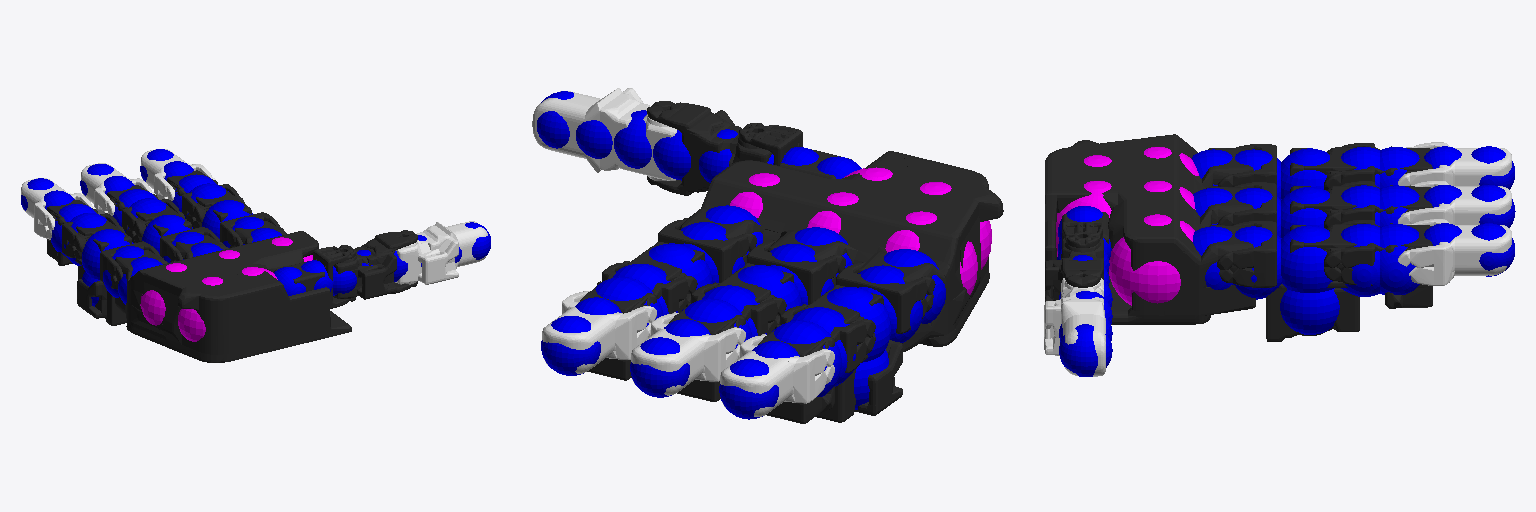
--- Facts derived from the render (not from the file) ---
Views: 3 orthographic renders of the robot side by side, from view 1: azimuth 30°, elevation 25°; view 2: azimuth 150°, elevation 25°; view 3: azimuth 270°, elevation 25°.
Robot: onshape — 56 links, 55 joints (16 revolute, 38 fixed, 1 floating); root link world; default pose: all joints at 0.
Visible links, largest first — view 1: palm_lower, thumb_fingertip, thumb_dip, mcp_joint_3, dip_3, fingertip_3, fingertip_2, fingertip, ring_ball4, thumb_pip, dip, dip_2 (+8 smaller); view 2: palm_lower, mcp_joint_3, thumb_fingertip, thumb_dip, fingertip_3, fingertip_2, fingertip, dip_3, dip, dip_2, mcp_joint, mcp_joint_2 (+28 smaller); view 3: palm_lower, mcp_joint, fingertip, thumb_fingertip, palm_ball1, dip, index_ball4, fingertip_2, fingertip_3, thumb_dip, index_ball5, index_ball2 (+28 smaller).
Link boxes in pixels (box(x1,y1,x2,y2)): palm_lower: box(115, 221, 351, 362); thumb_fingertip: box(395, 221, 487, 284); thumb_dip: box(333, 230, 417, 299); mcp_joint_3: box(77, 241, 163, 325); dip_3: box(47, 200, 124, 265); fingertip_3: box(21, 178, 95, 239); fingertip_2: box(81, 163, 155, 215); fingertip: box(141, 149, 215, 200); ring_ball4: box(82, 229, 133, 279); thumb_pip: box(313, 245, 355, 308); dip: box(167, 170, 244, 228); dip_2: box(107, 185, 184, 242); palm_lower: box(679, 151, 1003, 351); mcp_joint_3: box(816, 262, 935, 422); thumb_fingertip: box(532, 88, 676, 180); thumb_dip: box(647, 101, 771, 195); fingertip_3: box(720, 334, 834, 416); fingertip_2: box(631, 312, 745, 395); fingertip: box(542, 291, 656, 373); dip_3: box(758, 304, 875, 423); dip: box(580, 261, 697, 380); dip_2: box(669, 282, 786, 401); mcp_joint: box(658, 218, 756, 282); mcp_joint_2: box(747, 240, 845, 304); palm_lower: box(1045, 134, 1255, 324); mcp_joint: box(1217, 221, 1359, 341); fingertip: box(1398, 219, 1511, 285); thumb_fingertip: box(1044, 278, 1105, 376); palm_ball1: box(1109, 214, 1194, 305); dip: box(1324, 220, 1432, 308); index_ball4: box(1281, 225, 1333, 292); fingertip_2: box(1398, 181, 1511, 224); fingertip_3: box(1398, 142, 1511, 185); thumb_dip: box(1045, 238, 1103, 301); index_ball5: box(1280, 288, 1339, 334); index_ball2: box(1380, 224, 1419, 294).
Bounding box of the posed robot: 0.2425 × 0.2353 × 0.0642 m (x, y, z).
Meshes: 8 distinct files referenced, 17 mesh visuals loaded (8 OBJ).

The robot description file, URDF, robot "onshape":
<robot name="onshape">
<link name="world"/>
<link name="palm_link_floating"/>
<joint name="arm_to_world_floating" type="floating">
<parent link="world"/>
<child link="palm_link_floating"/>
<origin xyz="0 0 0" rpy="0 0 0" />
</joint>
<joint name="floating_to_palm" type="fixed">
<parent link="palm_link_floating"/>
<child link="palm_lower"/>
<origin xyz="0.037 0.05 -0.037" rpy="-3.141592653589793 0 1.5707963267948966" />
</joint>

<link name="palm_lower">
<visual>
<origin xyz="-0.020095249652862544332 0.025757756134899473244 -0.034722403578460216134" rpy="0 -0 0" />
<geometry>
<mesh filename="palm_lower.obj"/>
</geometry>
<material name="black">
<color rgba="0.2 0.2 0.2 1"/>
</material>
</visual>
<collision>
<origin xyz="-0.020095249652862544332 0.025757756134899473244 -0.034722403578460216134" rpy="0 -0 0" />
<geometry>
<mesh filename="palm_lower.obj"/>
</geometry>
</collision>
<inertial>
<origin xyz="0 0 0" rpy="0 0 0"/>
<mass value="0.237" />
<inertia ixx="0.000354094" ixy="-0.000001193"  ixz="-0.000002445" iyy="0.000260915" iyz="-0.000002905" izz="0.000529257" />
</inertial>
</link>

<link name="mcp_joint">
<visual>
<origin xyz="0.0084069022611744960438 0.0077662438597169954416 0.014657354985032912051" rpy="1.6375789613220999807e-15 -1.0210473302491019535e-30 1.7177968783327987474e-31" />
<geometry>
<mesh filename="mcp_joint.obj"/>
</geometry>
<material name="black">
<color rgba="0.2 0.2 0.2 1"/>
</material>
</visual>
<collision>
<origin xyz="0.0084069022611744960438 0.0077662438597169954416 0.014657354985032912051" rpy="1.6375789613220999807e-15 -1.0210473302491019535e-30 1.7177968783327987474e-31" />
<geometry>
<mesh filename="mcp_joint.obj"/>
</geometry>
</collision>
<inertial>
<origin xyz="0 0 0" rpy="0 0 0"/>
<mass value="0.044" />
<inertia ixx="0.000011499" ixy="0.000003049"  ixz="0.000000121" iyy="0.000007796" iyz="0.000000112" izz="0.000014759" />
</inertial>
</link>

<link name="pip">
<visual>
<origin xyz="0.0096433630922713280131 0.00029999999999998951117 0.00078403401041737645627" rpy="-1.570796326794896558 -1.570796326794896336 0" />
<geometry>
<mesh filename="pip.obj"/>
</geometry>
<material name="black">
<color rgba="0.2 0.2 0.2 1"/>
</material>
</visual>
<collision>
<origin xyz="0.0096433630922713280131 0.00029999999999998951117 0.00078403401041737645627" rpy="-1.570796326794896558 -1.570796326794896336 0" />
<geometry>
<mesh filename="pip.obj"/>
</geometry>
</collision>
<inertial>
<origin xyz="0 0 0" rpy="0 0 0"/>
<mass value="0.032" />
<inertia ixx="0.000004798" ixy="0.000000012"  ixz="0.000000004" iyy="0.000002862" iyz="0.000000011" izz="0.000004234" />
</inertial>
</link>

<link name="dip">
<visual>
<origin xyz="0.021133352895225002849 -0.0084321191467048792201 0.0097850881620952408213" rpy="-3.141592653589793116 4.5075111242164408299e-32 4.4395481053923607589e-32" />
<geometry>
<mesh filename="dip.obj"/>
</geometry>
<material name="black">
<color rgba="0.2 0.2 0.2 1"/>
</material>
</visual>
<collision>
<origin xyz="0.021133352895225002849 -0.0084321191467048792201 0.0097850881620952408213" rpy="-3.141592653589793116 4.5075111242164408299e-32 4.4395481053923607589e-32" />
<geometry>
<mesh filename="dip.obj"/>
</geometry>
</collision>
<inertial>
<origin xyz="0 0 0" rpy="0 0 0"/>
<mass value="0.037" />
<inertia ixx="0.000005542" ixy="-0.000000607"  ixz="-0.000000017" iyy="0.000005727" iyz="-0.000000023" izz="0.000006682" />
</inertial>
</link>

<link name="fingertip">
<visual>
<origin xyz="0.013286424108533503169 -0.0061142383865419869249 0.014499999999999497666" rpy="3.141592653589793116 1.1993117970061734707e-33 4.4395481053923607589e-32" />
<geometry>
<mesh filename="fingertip.obj"/>
</geometry>
<material name="white">
<color rgba=".9 .9 .9 1"/>
</material>
</visual>
<!-- <collision>
<origin xyz="0.013286424108533503169 -0.0061142383865419869249 0.014499999999999497666" rpy="3.141592653589793116 1.1993117970061734707e-33 4.4395481053923607589e-32" />
<geometry>
<mesh filename="fingertip.obj"/>
</geometry>
</collision> -->
<inertial>
<origin xyz="0 0 0" rpy="0 0 0"/>
<mass value="0.016" />
<inertia ixx="0.000003368" ixy="0.000000115"  ixz="0" iyy="0.000001556" iyz="0" izz="0.000002863" />
</inertial>
</link>

<joint name="0" type="revolute">
<origin xyz="-0.012200000000000007713 0.038099999999999994982 0.014500000000000000736" rpy="-1.570796326794896558 -1.0065212660796336576e-15 1.5707963267948943376" />
<parent link="mcp_joint" />
<child link="pip" />
<axis xyz="0 0 -1"/>
<limit effort="0.95" velocity="8.48" lower = "-1.047" upper = "1.047"/>
<joint_properties friction="0.0"/>
</joint>

<joint name="1" type="revolute">
<origin xyz="-0.0070952496528625457958 0.023057756134899472233 -0.01872240357846021927" rpy="1.5707963267948950037 1.5707963267948945596 0" />
<parent link="palm_lower" />
<child link="mcp_joint" />
<axis xyz="0 0 -1"/>
<limit effort="0.95" velocity="8.48" lower = "-0.314" upper = "2.23"/>
<joint_properties friction="0.0"/>
</joint>

<joint name="2" type="revolute">
<origin xyz="0.01499999999999996822 0.014299999999999904801 -0.012999999999999824196" rpy="1.5707963267948958919 -1.570796326794896336 0" />
<parent link="pip" />
<child link="dip" />
<axis xyz="0 0 -1"/>
<limit effort="0.95" velocity="8.48" lower = "-0.506" upper = "1.885"/>  
<joint_properties friction="0.0"/>
</joint>

<joint name="3" type="revolute">
<origin xyz="-4.0880582495572692636e-09 -0.036100004210367367397 0.00020000000000007858714" rpy="4.5935029425113685044e-17 -2.8730071914463794583e-16 4.4395481053923607589e-32" />
<parent link="dip" />
<child link="fingertip" />
<axis xyz="0 0 -1"/>
<limit effort="0.95" velocity="8.48" lower = "-0.366" upper = "2.042"/>   
<joint_properties friction="0.0"/>
</joint>


<link name="index_ball0">
<visual>
<geometry>
<sphere radius="0.0134"/>
</geometry>
<material name="blue">
<color rgba="0.0 0.0 1.0 1.0"/>
</material>
</visual>
<collision>
<geometry>
<sphere radius="0.0134"/>
</geometry>
</collision>
<inertial>
<origin xyz="0 0 0" rpy="0 0 0"/>
<mass value="0.016" />
<inertia ixx="0.0" ixy="0.0"  ixz="0" iyy="0.0" iyz="0.0" izz="0.0" />
</inertial>
</link>

<joint name="index_ball0_joint" type="fixed">
<parent link="fingertip"/>
<child link="index_ball0"/>
<origin rpy="0 0 0" xyz="-0.0015 -0.0382 0.0145"/>
</joint>

<!-- index ball1 -->
<link name="index_ball1">
<visual>
<geometry>
<sphere radius="0.0134"/>
</geometry>
<material name="blue">
<color rgba="0.0 0.0 1.0 1.0"/>
</material>
</visual>
<collision>
<geometry>
<sphere radius="0.0134"/>
</geometry>
</collision>
<inertial>
<origin xyz="0 0 0" rpy="0 0 0"/>
<mass value="0.016" />
<inertia ixx="0.0" ixy="0.0"  ixz="0" iyy="0.0" iyz="0.0" izz="0.0" />
</inertial>
</link>
<joint name="index_ball1_joint" type="fixed">
<parent link="fingertip"/>
<child link="index_ball1"/>
<origin rpy="0 0 0" xyz="-0.0015 -0.0162 0.0145"/>
</joint>

<!-- index ball2 -->
<link name="index_ball2">
<visual>
<geometry>
<sphere radius="0.0184"/>
</geometry>
<material name="blue">
<color rgba="0.0 0.0 1.0 1.0"/>
</material>
</visual>
<collision>
<geometry>
<sphere radius="0.0184"/>
</geometry>
</collision>
<inertial>
<origin xyz="0 0 0" rpy="0 0 0"/>
<mass value="0.016" />
<inertia ixx="0.0" ixy="0.0"  ixz="0" iyy="0.0" iyz="0.0" izz="0.0" />
</inertial>
</link>
<joint name="index_ball2_joint" type="fixed">
<parent link="dip"/>
<child link="index_ball2"/>
<origin rpy="0 0 0" xyz="0.004 -0.028  0.014"/>
</joint>

<!-- index ball3 -->
<link name="index_ball3">
<visual>
<geometry>
<sphere radius="0.0184"/>
</geometry>
<material name="blue">
<color rgba="0.0 0.0 1.0 1.0"/>
</material>
</visual>
<collision>
<geometry>
<sphere radius="0.0184"/>
</geometry>
</collision>
<inertial>
<origin xyz="0 0 0" rpy="0 0 0"/>
<mass value="0.016" />
<inertia ixx="0.0" ixy="0.0"  ixz="0" iyy="0.0" iyz="0.0" izz="0.0" />
</inertial>
</link>
<joint name="index_ball3_joint" type="fixed">
<parent link="dip"/>
<child link="index_ball3"/>
<origin rpy="0 0 0" xyz="0.004 -0.012  0.014"/>
</joint>

<!-- index ball4 -->
<link name="index_ball4">
<visual>
<geometry>
<sphere radius="0.0184"/>
</geometry>
<material name="blue">
<color rgba="0.0 0.0 1.0 1.0"/>
</material>
</visual>
<collision>
<geometry>
<sphere radius="0.0184"/>
</geometry>
</collision>
<inertial>
<origin xyz="0 0 0" rpy="0 0 0"/>
<mass value="0.016" />
<inertia ixx="0.0" ixy="0.0"  ixz="0" iyy="0.0" iyz="0.0" izz="0.0" />
</inertial>
</link>
<joint name="index_ball4_joint" type="fixed">
<parent link="pip"/>
<child link="index_ball4"/>
<origin rpy="0 0 0" xyz="0.00 0.0 -0.008"/>  
</joint>

<!-- index ball5 (pure collision)-->
<link name="index_ball5">
<visual>
<geometry>
<sphere radius="0.0184"/>
</geometry>
<material name="blue">
<color rgba="0.0 0.0 1.0 1.0"/>
</material>
</visual>
<collision>
<geometry>
<sphere radius="0.0184"/>
</geometry>
</collision>
<inertial>
<origin xyz="0 0 0" rpy="0 0 0"/>
<mass value="0.016" />
<inertia ixx="0.0" ixy="0.0"  ixz="0" iyy="0.0" iyz="0.0" izz="0.0" />
</inertial>
</link>
<joint name="index_ball5_joint" type="fixed">
<parent link="pip"/>
<child link="index_ball5"/>
<origin rpy="0 0 0" xyz="0.00 0.0 0.012"/>  
</joint>

<!-- index ball6 -->
<link name="index_ball6">
<visual>
<geometry>
<sphere radius="0.0184"/>
</geometry>
<material name="blue">
<color rgba="0.0 0.0 1.0 1.0"/>
</material>
</visual>
<collision>
<geometry>
<sphere radius="0.0184"/>
</geometry>
</collision>
<inertial>
<origin xyz="0 0 0" rpy="0 0 0"/>
<mass value="0.016" />
<inertia ixx="0.0" ixy="0.0"  ixz="0" iyy="0.0" iyz="0.0" izz="0.0" />
</inertial>
</link>
<joint name="index_ball6_joint" type="fixed">
<parent link="mcp_joint"/>
<child link="index_ball6"/>
<origin rpy="0 0 0" xyz="-0.005 0.01 0.015"/>
</joint>

<!-- index ball7 -->
<link name="index_ball7">
<visual>
<geometry>
<sphere radius="0.0184"/>
</geometry>
<material name="blue">
<color rgba="0.0 0.0 1.0 1.0"/>
</material>
</visual>
<collision>
<geometry>
<sphere radius="0.0184"/>
</geometry>
</collision>
<inertial>
<origin xyz="0 0 0" rpy="0 0 0"/>
<mass value="0.016" />
<inertia ixx="0.0" ixy="0.0"  ixz="0" iyy="0.0" iyz="0.0" izz="0.0" />
</inertial>
</link>
<joint name="index_ball7_joint" type="fixed">
<parent link="mcp_joint"/>
<child link="index_ball7"/>
<origin rpy="0 0 0" xyz="-0.005 -0.01 0.015"/>
</joint>


<link name="mcp_joint_2">
<visual>
<origin xyz="0.0084069022611744960438 0.0077662438597169954416 0.014657354985032913786" rpy="1.6375789613220999807e-15 -1.0076465469034000467e-30 2.1209300131419907151e-61" />
<geometry>
<mesh filename="mcp_joint.obj"/>
</geometry>
<material name="black">
<color rgba=".2 .2 .2 1"/>
</material>
</visual>
<collision>
<origin xyz="0.0084069022611744960438 0.0077662438597169954416 0.014657354985032913786" rpy="1.6375789613220999807e-15 -1.0076465469034000467e-30 2.1209300131419907151e-61" />
<geometry>
<mesh filename="mcp_joint.obj"/>
</geometry>
</collision>
<inertial>
<origin xyz="0 0 0" rpy="0 0 0"/>
<mass value="0.044" />
<inertia ixx="0.000011499" ixy="0.000003049"  ixz="0.000000121" iyy="0.000007796" iyz="0.000000112" izz="0.000014759" />
</inertial>
</link>

<link name="pip_2">
<visual>
<origin xyz="0.0096433630922713280131 0.00029999999999999471534 0.00078403401041737645627" rpy="-1.570796326794896558 -1.570796326794896336 0" />
<geometry>
<mesh filename="pip.obj"/>
</geometry>
<material name="black">
<color rgba=".2 .2 .2 1"/>
</material>
</visual>
<collision>
<origin xyz="0.0096433630922713280131 0.00029999999999999471534 0.00078403401041737645627" rpy="-1.570796326794896558 -1.570796326794896336 0" />
<geometry>
<mesh filename="pip.obj"/>
</geometry>
</collision>
<inertial>
<origin xyz="0 0 0" rpy="0 0 0"/>
<mass value="0.032" />
<inertia ixx="0.000004798" ixy="0.000000012"  ixz="0.000000004" iyy="0.000002862" iyz="0.000000011" izz="0.000004234" />
</inertial>
</link>

<link name="dip_2">
<visual>
<origin xyz="0.021133352895225002849 -0.0084321191467048653423 0.0097850881620952373519" rpy="-3.141592653589793116 2.1146933785271955805e-32 1.4408183216511868558e-31" />
<geometry>
<mesh filename="dip.obj"/>
</geometry>
<material name="black">
<color rgba=".2 .2 .2 1"/>
</material>
</visual>
<collision>
<origin xyz="0.021133352895225002849 -0.0084321191467048653423 0.0097850881620952373519" rpy="-3.141592653589793116 2.1146933785271955805e-32 1.4408183216511868558e-31" />
<geometry>
<mesh filename="dip.obj"/>
</geometry>
</collision>
<inertial>
<origin xyz="0 0 0" rpy="0 0 0"/>
<mass value="0.037" />
<inertia ixx="0.000005542" ixy="-0.000000607"  ixz="-0.000000017" iyy="0.000005727" iyz="-0.000000023" izz="0.000006682" />
</inertial>
</link>

<link name="fingertip_2">
<visual>
<origin xyz="0.01328642410853349623 -0.0061142383865420008027 0.014499999999999495931" rpy="3.141592653589793116 -4.3179597882835943107e-33 1.4408183216511868558e-31" />
<geometry>
<mesh filename="fingertip.obj"/>
</geometry>
<material name="white">
<color rgba=".9 .9 .9 1"/>
</material>
</visual>
<!-- <collision>
<origin xyz="0.01328642410853349623 -0.0061142383865420008027 0.014499999999999495931" rpy="3.141592653589793116 -4.3179597882835943107e-33 1.4408183216511868558e-31" />
<geometry>
<mesh filename="fingertip.obj"/>
</geometry>
</collision> -->
<inertial>
<origin xyz="0 0 0" rpy="0 0 0"/>
<mass value="0.016" />
<inertia ixx="0.000003368" ixy="0.000000115"  ixz="0" iyy="0.000001556" iyz="0" izz="0.000002863" />
</inertial>
</link>

<joint name="4" type="revolute">
<origin xyz="-0.012200000000000019856 0.038099999999999981104 0.01450000000000000594" rpy="-1.570796326794896558 -1.0065212760057939085e-15 1.5707963267948943376" />
<parent link="mcp_joint_2" />
<child link="pip_2" />
<axis xyz="0 0 -1"/>
<limit effort="0.95" velocity="8.48" lower = "-1.047" upper = "1.047"/>
<joint_properties friction="0.0"/>
</joint>

<joint name="5" type="revolute">
<origin xyz="-0.0070952496528625388569 -0.022392243865100525113 -0.018722403578460229678" rpy="1.570796326794896558 1.570796326794896558 0" />
<parent link="palm_lower" />
<child link="mcp_joint_2" />
<axis xyz="0 0 -1"/>
<limit effort="0.95" velocity="8.48" lower = "-0.314" upper = "2.23"/>
<joint_properties friction="0.0"/>
</joint>

<joint name="6" type="revolute">
<origin xyz="0.014999999999999975159 0.014300000000000000211 -0.013000000000000018485" rpy="1.5707963267948958919 -1.570796326794896336 0" />
<parent link="pip_2" />
<child link="dip_2" />
<axis xyz="0 0 -1"/>
<limit effort="0.95" velocity="8.48" lower = "-0.506" upper = "1.885"/>  
<joint_properties friction="0.0"/>
</joint>

<joint name="7" type="revolute">
<origin xyz="1.0061396160665481148e-16 -0.036099999999999854428 0.00020000000000007858714" rpy="4.5935029425113654229e-17 -2.8730071914463794583e-16 1.4408183216511868558e-31" />
<parent link="dip_2" />
<child link="fingertip_2" />
<axis xyz="0 0 -1"/>
<limit effort="0.95" velocity="8.48" lower = "-0.366" upper = "2.042"/>   
<joint_properties friction="0.0"/>
</joint>


<link name="middle_ball0">
<visual>
<geometry>
<sphere radius="0.0134"/>
</geometry>
<material name="blue">
<color rgba="0.0 0.0 1.0 1.0"/>
</material>
</visual>
<collision>
<geometry>
<sphere radius="0.0134"/>
</geometry>
</collision>
<inertial>
<origin xyz="0 0 0" rpy="0 0 0"/>
<mass value="0.016" />
<inertia ixx="0.0" ixy="0.0"  ixz="0" iyy="0.0" iyz="0.0" izz="0.0" />
</inertial>
</link>

<joint name="middle_ball0_joint" type="fixed">
<parent link="fingertip_2"/>
<child link="middle_ball0"/>
<origin rpy="0 0 0" xyz="-0.0015 -0.0382 0.0145"/>
</joint>

<!-- middle ball1 -->
<link name="middle_ball1">
<visual>
<geometry>
<sphere radius="0.0134"/>
</geometry>
<material name="blue">
<color rgba="0.0 0.0 1.0 1.0"/>
</material>
</visual>
<collision>
<geometry>
<sphere radius="0.0134"/>
</geometry>
</collision>
<inertial>
<origin xyz="0 0 0" rpy="0 0 0"/>
<mass value="0.016" />
<inertia ixx="0.0" ixy="0.0"  ixz="0" iyy="0.0" iyz="0.0" izz="0.0" />
</inertial>
</link>
<joint name="middle_ball1_joint" type="fixed">
<parent link="fingertip_2"/>
<child link="middle_ball1"/>
<origin rpy="0 0 0" xyz="-0.0015 -0.0162 0.0145"/>
</joint>

<!-- middle ball2 -->
<link name="middle_ball2">
<visual>
<geometry>
<sphere radius="0.0184"/>
</geometry>
<material name="blue">
<color rgba="0.0 0.0 1.0 1.0"/>
</material>
</visual>
<collision>
<geometry>
<sphere radius="0.0184"/>
</geometry>
</collision>
<inertial>
<origin xyz="0 0 0" rpy="0 0 0"/>
<mass value="0.016" />
<inertia ixx="0.0" ixy="0.0"  ixz="0" iyy="0.0" iyz="0.0" izz="0.0" />
</inertial>
</link>
<joint name="middle_ball2_joint" type="fixed">
<parent link="dip_2"/>
<child link="middle_ball2"/>
<origin rpy="0 0 0" xyz="0.004 -0.028  0.014"/>
</joint>

<!-- middle ball3 -->
<link name="middle_ball3">
<visual>
<geometry>
<sphere radius="0.0184"/>
</geometry>
<material name="blue">
<color rgba="0.0 0.0 1.0 1.0"/>
</material>
</visual>
<collision>
<geometry>
<sphere radius="0.0184"/>
</geometry>
</collision>
<inertial>
<origin xyz="0 0 0" rpy="0 0 0"/>
<mass value="0.016" />
<inertia ixx="0.0" ixy="0.0"  ixz="0" iyy="0.0" iyz="0.0" izz="0.0" />
</inertial>
</link>
<joint name="middle_ball3_joint" type="fixed">
<parent link="dip_2"/>
<child link="middle_ball3"/>
<origin rpy="0 0 0" xyz="0.004 -0.012  0.014"/>
</joint>

<!-- middle ball4 -->
<link name="middle_ball4">
<visual>
<geometry>
<sphere radius="0.0184"/>
</geometry>
<material name="blue">
<color rgba="0.0 0.0 1.0 1.0"/>
</material>
</visual>
<collision>
<geometry>
<sphere radius="0.0184"/>
</geometry>
</collision>
<inertial>
<origin xyz="0 0 0" rpy="0 0 0"/>
<mass value="0.016" />
<inertia ixx="0.0" ixy="0.0"  ixz="0" iyy="0.0" iyz="0.0" izz="0.0" />
</inertial>
</link>
<joint name="middle_ball4_joint" type="fixed">
<parent link="pip_2"/>
<child link="middle_ball4"/>
<origin rpy="0 0 0" xyz="0.00 0.0 -0.008"/>  
</joint>

<!-- middle ball5 (pure collision)-->
<link name="middle_ball5">
<visual>
<geometry>
<sphere radius="0.0184"/>
</geometry>
<material name="blue">
<color rgba="0.0 0.0 1.0 1.0"/>
</material>
</visual>
<collision>
<geometry>
<sphere radius="0.0184"/>
</geometry>
</collision>
<inertial>
<origin xyz="0 0 0" rpy="0 0 0"/>
<mass value="0.016" />
<inertia ixx="0.0" ixy="0.0"  ixz="0" iyy="0.0" iyz="0.0" izz="0.0" />
</inertial>
</link>
<joint name="middle_ball5_joint" type="fixed">
<parent link="pip_2"/>
<child link="middle_ball5"/>
<origin rpy="0 0 0" xyz="0.00 0.0 0.012"/>  
</joint>

<!-- middle ball6 -->
<link name="middle_ball6">
<visual>
<geometry>
<sphere radius="0.0184"/>
</geometry>
<material name="blue">
<color rgba="0.0 0.0 1.0 1.0"/>
</material>
</visual>
<collision>
<geometry>
<sphere radius="0.0184"/>
</geometry>
</collision>
<inertial>
<origin xyz="0 0 0" rpy="0 0 0"/>
<mass value="0.016" />
<inertia ixx="0.0" ixy="0.0"  ixz="0" iyy="0.0" iyz="0.0" izz="0.0" />
</inertial>
</link>
<joint name="middle_ball6_joint" type="fixed">
<parent link="mcp_joint_2"/>
<child link="middle_ball6"/>
<origin rpy="0 0 0" xyz="-0.005 0.01 0.015"/>
</joint>

<!-- middle ball7 -->
<link name="middle_ball7">
<visual>
<geometry>
<sphere radius="0.0184"/>
</geometry>
<material name="blue">
<color rgba="0.0 0.0 1.0 1.0"/>
</material>
</visual>
<collision>
<geometry>
<sphere radius="0.0184"/>
</geometry>
</collision>
<inertial>
<origin xyz="0 0 0" rpy="0 0 0"/>
<mass value="0.016" />
<inertia ixx="0.0" ixy="0.0"  ixz="0" iyy="0.0" iyz="0.0" izz="0.0" />
</inertial>
</link>
<joint name="middle_ball7_joint" type="fixed">
<parent link="mcp_joint_2"/>
<child link="middle_ball7"/>
<origin rpy="0 0 0" xyz="-0.005 -0.01 0.015"/>
</joint>


<link name="mcp_joint_3">
<visual>
<origin xyz="0.0084069022611744995133 0.0077662438597169963089 0.014657354985032913786" rpy="1.6375789613220999807e-15 -1.0059504988632626953e-30 5.729641584552035421e-32" />
<geometry>
<mesh filename="mcp_joint.obj"/>
</geometry>
<material name="black">
<color rgba=".2 .2 .2 1"/>
</material>
</visual>
<collision>
<origin xyz="0.0084069022611744995133 0.0077662438597169963089 0.014657354985032913786" rpy="1.6375789613220999807e-15 -1.0059504988632626953e-30 5.729641584552035421e-32" />
<geometry>
<mesh filename="mcp_joint.obj"/>
</geometry>
</collision>
<inertial>
<origin xyz="0 0 0" rpy="0 0 0"/>
<mass value="0.044" />
<inertia ixx="0.000011499" ixy="0.000003049"  ixz="0.000000121" iyy="0.000007796" iyz="0.000000112" izz="0.000014759" />
</inertial>
</link>

<link name="pip_3">
<visual>
<origin xyz="0.0096433630922713314826 0.00029999999999998083755 0.00078403401041737645627" rpy="-1.570796326794896558 -1.570796326794896336 0" />
<geometry>
<mesh filename="pip.obj"/>
</geometry>
<material name="black">
<color rgba=".2 .2 .2 1"/>
</material>
</visual>
<collision>
<origin xyz="0.0096433630922713314826 0.00029999999999998083755 0.00078403401041737645627" rpy="-1.570796326794896558 -1.570796326794896336 0" />
<geometry>
<mesh filename="pip.obj"/>
</geometry>
</collision>
<inertial>
<origin xyz="0 0 0" rpy="0 0 0"/>
<mass value="0.032" />
<inertia ixx="0.000004798" ixy="0.000000012"  ixz="0.000000004" iyy="0.000002862" iyz="0.000000011" izz="0.000004234" />
</inertial>
</link>

<link name="dip_3">
<visual>
<origin xyz="0.021133352895225006318 -0.0084321191467048653423 0.0097850881620952373519" rpy="-3.141592653589793116 -1.4095651113919093005e-33 1.5565411607615035382e-32" />
<geometry>
<mesh filename="dip.obj"/>
</geometry>
<material name="black">
<color rgba=".2 .2 .2 1"/>
</material>
</visual>
<collision>
<origin xyz="0.021133352895225006318 -0.0084321191467048653423 0.0097850881620952373519" rpy="-3.141592653589793116 -1.4095651113919093005e-33 1.5565411607615035382e-32" />
<geometry>
<mesh filename="dip.obj"/>
</geometry>
</collision>
<inertial>
<origin xyz="0 0 0" rpy="0 0 0"/>
<mass value="0.037" />
<inertia ixx="0.000005542" ixy="-0.000000607"  ixz="-0.000000017" iyy="0.000005727" iyz="-0.000000023" izz="0.000006682" />
</inertial>
</link>

<link name="fingertip_3">
<visual>
<origin xyz="0.013286424108533501434 -0.0061142383865419869249 0.0144999999999994994" rpy="3.141592653589793116 8.6170716950575402125e-33 1.5565411607615035382e-32" />
<geometry>
<mesh filename="fingertip.obj"/>
</geometry>
<material name="white">
<color rgba=".9 .9 .9 1"/>
</material>
</visual>
<!-- <collision>
<origin xyz="0.013286424108533501434 -0.0061142383865419869249 0.0144999999999994994" rpy="3.141592653589793116 8.6170716950575402125e-33 1.5565411607615035382e-32" />
<geometry>
<mesh filename="fingertip.obj"/>
</geometry>
</collision> -->
<inertial>
<origin xyz="0 0 0" rpy="0 0 0"/>
<mass value="0.016" />
<inertia ixx="0.000003368" ixy="0.000000115"  ixz="0" iyy="0.000001556" iyz="0" izz="0.000002863" />
</inertial>
</link>

<joint name="8" type="revolute">
<origin xyz="-0.012200000000000004244 0.038100000000000001921 0.014499999999999999001" rpy="-1.570796326794896558 -1.0065212660796360242e-15 1.5707963267948943376" />
<parent link="mcp_joint_3" />
<child link="pip_3" />
<axis xyz="0 0 -1"/>
<limit effort="0.95" velocity="8.48" lower = "-1.047" upper = "1.047"/>
<joint_properties friction="0.0"/>
</joint>

<joint name="9" type="revolute">
<origin xyz="-0.0070952454426398371343 -0.067842243865100515521 -0.018722407666402932774" rpy="1.5707963267948950037 1.5707963267948945596 0" />
<parent link="palm_lower" />
<child link="mcp_joint_3" />
<axis xyz="0 0 -1"/>
<limit effort="0.95" velocity="8.48" lower = "-0.314" upper = "2.23"/>
<joint_properties friction="0.0"/>
</joint>

<joint name="10" type="revolute">
<origin xyz="0.014999999999999971689 0.014299999999999951639 -0.012999999999999959505" rpy="1.5707963267948958919 -1.570796326794896336 0" />
<parent link="pip_3" />
<child link="dip_3" />
<axis xyz="0 0 -1"/>
<limit effort="0.95" velocity="8.48" lower = "-0.506" upper = "1.885"/>  
<joint_properties friction="0.0"/>
</joint>

<joint name="11" type="revolute">
<origin xyz="9.7144514654701197287e-17 -0.036099999999999868305 0.00020000000000007511769" rpy="4.5935029425113685044e-17 -2.8730071914463799514e-16 1.5565411607615035382e-32" />
<parent link="dip_3" />
<child link="fingertip_3" />
<axis xyz="0 0 -1"/>
<limit effort="0.95" velocity="8.48" lower = "-0.366" upper = "2.042"/>   
<joint_properties friction="0.0"/>
</joint>


<link name="ring_ball0">
<visual>
<geometry>
<sphere radius="0.0134"/>
</geometry>
<material name="blue">
<color rgba="0.0 0.0 1.0 1.0"/>
</material>
</visual>
<collision>
<geometry>
<sphere radius="0.0134"/>
</geometry>
</collision>
<inertial>
<origin xyz="0 0 0" rpy="0 0 0"/>
<mass value="0.016" />
<inertia ixx="0.0" ixy="0.0"  ixz="0" iyy="0.0" iyz="0.0" izz="0.0" />
</inertial>
</link>

<joint name="ring_ball0_joint" type="fixed">
<parent link="fingertip_3"/>
<child link="ring_ball0"/>
<origin rpy="0 0 0" xyz="-0.0015 -0.0382 0.0145"/>
</joint>

<!-- ring ball1 -->
<link name="ring_ball1">
<visual>
<geometry>
<sphere radius="0.0134"/>
</geometry>
<material name="blue">
<color rgba="0.0 0.0 1.0 1.0"/>
</material>
</visual>
<collision>
<geometry>
<sphere radius="0.0134"/>
</geometry>
</collision>
<inertial>
<origin xyz="0 0 0" rpy="0 0 0"/>
<mass value="0.016" />
<inertia ixx="0.0" ixy="0.0"  ixz="0" iyy="0.0" iyz="0.0" izz="0.0" />
</inertial>
</link>
<joint name="ring_ball1_joint" type="fixed">
<parent link="fingertip_3"/>
<child link="ring_ball1"/>
<origin rpy="0 0 0" xyz="-0.0015 -0.0162 0.0145"/>
</joint>

<!-- ring ball2 -->
<link name="ring_ball2">
<visual>
<geometry>
<sphere radius="0.0184"/>
</geometry>
<material name="blue">
<color rgba="0.0 0.0 1.0 1.0"/>
</material>
</visual>
<collision>
<geometry>
<sphere radius="0.0184"/>
</geometry>
</collision>
<inertial>
<origin xyz="0 0 0" rpy="0 0 0"/>
<mass value="0.016" />
<inertia ixx="0.0" ixy="0.0"  ixz="0" iyy="0.0" iyz="0.0" izz="0.0" />
</inertial>
</link>
<joint name="ring_ball2_joint" type="fixed">
<parent link="dip_3"/>
<child link="ring_ball2"/>
<origin rpy="0 0 0" xyz="0.004 -0.028  0.014"/>
</joint>

<!-- ring ball3 -->
<link name="ring_ball3">
<visual>
<geometry>
<sphere radius="0.0184"/>
</geometry>
<material name="blue">
<color rgba="0.0 0.0 1.0 1.0"/>
</material>
</visual>
<collision>
<geometry>
<sphere radius="0.0184"/>
</geometry>
</collision>
<inertial>
<origin xyz="0 0 0" rpy="0 0 0"/>
<mass value="0.016" />
<inertia ixx="0.0" ixy="0.0"  ixz="0" iyy="0.0" iyz="0.0" izz="0.0" />
</inertial>
</link>
<joint name="ring_ball3_joint" type="fixed">
<parent link="dip_3"/>
<child link="ring_ball3"/>
<origin rpy="0 0 0" xyz="0.004 -0.012  0.014"/>
</joint>

<!-- ring ball4 -->
<link name="ring_ball4">
<visual>
<geometry>
<sphere radius="0.0184"/>
</geometry>
<material name="blue">
<color rgba="0.0 0.0 1.0 1.0"/>
</material>
</visual>
<collision>
<geometry>
<sphere radius="0.0184"/>
</geometry>
</collision>
<inertial>
<origin xyz="0 0 0" rpy="0 0 0"/>
<mass value="0.016" />
<inertia ixx="0.0" ixy="0.0"  ixz="0" iyy="0.0" iyz="0.0" izz="0.0" />
</inertial>
</link>
<joint name="mring_ball4_joint" type="fixed">
<parent link="pip_3"/>
<child link="ring_ball4"/>
<origin rpy="0 0 0" xyz="0.00 0.0 -0.008"/>  
</joint>

<!-- ring ball5 (pure collision)-->
<link name="ring_ball5">
<visual>
<geometry>
<sphere radius="0.0184"/>
</geometry>
<material name="blue">
<color rgba="0.0 0.0 1.0 1.0"/>
</material>
</visual>
<collision>
<geometry>
<sphere radius="0.0184"/>
</geometry>
</collision>
<inertial>
<origin xyz="0 0 0" rpy="0 0 0"/>
<mass value="0.016" />
<inertia ixx="0.0" ixy="0.0"  ixz="0" iyy="0.0" iyz="0.0" izz="0.0" />
</inertial>
</link>
<joint name="ring_ball5_joint" type="fixed">
<parent link="pip_3"/>
<child link="ring_ball5"/>
<origin rpy="0 0 0" xyz="0.00 0.0 0.012"/>  
</joint>

<!-- ring ball6 -->
<link name="ring_ball6">
<visual>
<geometry>
<sphere radius="0.0184"/>
</geometry>
<material name="blue">
<color rgba="0.0 0.0 1.0 1.0"/>
</material>
</visual>
<collision>
<geometry>
<sphere radius="0.0184"/>
</geometry>
</collision>
<inertial>
<origin xyz="0 0 0" rpy="0 0 0"/>
<mass value="0.016" />
<inertia ixx="0.0" ixy="0.0"  ixz="0" iyy="0.0" iyz="0.0" izz="0.0" />
</inertial>
</link>
<joint name="ring_ball6_joint" type="fixed">
<parent link="mcp_joint_3"/>
<child link="ring_ball6"/>
<origin rpy="0 0 0" xyz="-0.005 0.01 0.015"/>
</joint>

<!-- ring ball7 -->
<link name="ring_ball7">
<visual>
<geometry>
<sphere radius="0.0184"/>
</geometry>
<material name="blue">
<color rgba="0.0 0.0 1.0 1.0"/>
</material>
</visual>
<collision>
<geometry>
<sphere radius="0.0184"/>
</geometry>
</collision>
<inertial>
<origin xyz="0 0 0" rpy="0 0 0"/>
<mass value="0.016" />
<inertia ixx="0.0" ixy="0.0"  ixz="0" iyy="0.0" iyz="0.0" izz="0.0" />
</inertial>
</link>
<joint name="ring_ball7_joint" type="fixed">
<parent link="mcp_joint_3"/>
<child link="ring_ball7"/>
<origin rpy="0 0 0" xyz="-0.005 -0.01 0.015"/>
</joint>

<link name="pip_4">
<visual>
<origin xyz="-0.0053566369077286714317 0.00029999999999999991951 0.00078403401041737819099" rpy="-1.570796326794896558 -1.570796326794896336 0" />
<geometry>
<mesh filename="pip.obj"/>
</geometry>
<material name="black">
<color rgba=".2 .2 .2 1"/>
</material>
</visual>
<collision>
<origin xyz="-0.0053566369077286714317 0.00029999999999999991951 0.00078403401041737819099" rpy="-1.570796326794896558 -1.570796326794896336 0" />
<geometry>
<mesh filename="pip.obj"/>
</geometry>
</collision>
<inertial>
<origin xyz="0 0 0" rpy="0 0 0"/>
<mass value="0.032" />
<inertia ixx="0.000004798" ixy="0.000000012"  ixz="0.000000004" iyy="0.000002862" iyz="0.000000011" izz="0.000004234" />
</inertial>
</link>

<link name="thumb_pip">
<visual>
<origin xyz="0.011961920770611186859 -5.3082538364890297089e-16 -0.015852648956664199681" rpy="1.570796326794896558 1.6050198443300152637e-46 -3.9204996250525192755e-59" />
<geometry>
<mesh filename="thumb_pip.obj"/>
</geometry>
<material name="black">
<color rgba=".2 .2 .2 1"/>
</material>
</visual>
<collision>
<origin xyz="0.011961920770611186859 -5.3082538364890297089e-16 -0.015852648956664199681" rpy="1.570796326794896558 1.6050198443300152637e-46 -3.9204996250525192755e-59" />
<geometry>
<mesh filename="thumb_pip.obj"/>
</geometry>
</collision>
<inertial>
<origin xyz="0 0 0" rpy="0 0 0"/>
<mass value="0.003" />
<inertia ixx="0.000000593" ixy="0"  ixz="0" iyy="0.000000549" iyz="0" izz="0.000000224" />
</inertial>
</link>

<link name="thumb_dip">
<visual>
<origin xyz="0.043968715707239175439 0.057952952973709198625 -0.0086286764493694757122" rpy="1.9428902930940098942e-16 3.2751579226442200773e-15 1.1123758529657360012e-46" />
<geometry>
<mesh filename="thumb_dip.obj"/>
</geometry>
<material name="black">
<color rgba=".2 .2 .2 1"/>
</material>
</visual>
<collision>
<origin xyz="0.043968715707239175439 0.057952952973709198625 -0.0086286764493694757122" rpy="1.9428902930940098942e-16 3.2751579226442200773e-15 1.1123758529657360012e-46" />
<geometry>
<mesh filename="thumb_dip.obj"/>
</geometry>
</collision>
<inertial>
<origin xyz="0 0 0" rpy="0 0 0"/>
<mass value="0.038" />
<inertia ixx="0.000008474" ixy="0.000000241"  ixz="0.000000026" iyy="0.000003841" iyz="0.000000025" izz="0.000007679" />
</inertial>
</link>

<link name="thumb_fingertip">
<visual>
<origin xyz="0.062559538462667388381 0.078459682911396988469 0.048992911807332215068" rpy="4.3790577010156367543e-47 -3.3306690738754701143e-16 1.2042408677791935383e-46" />
<geometry>
<mesh filename="thumb_fingertip.obj"/>
</geometry>
<material name="white">
<color rgba=".9 .9 .9 1"/>
</material>
</visual>
<!-- <collision>
<origin xyz="0.062559538462667388381 0.078459682911396988469 0.048992911807332215068" rpy="4.3790577010156367543e-47 -3.3306690738754701143e-16 1.2042408677791935383e-46" />
<geometry>
<mesh filename="thumb_fingertip.obj"/>
</geometry>
</collision> -->
<inertial>
<origin xyz="0 0 0" rpy="0 0 0"/>
<mass value="0.049" />
<inertia ixx="0.000020372" ixy="-0.000000489"  ixz="-0.00000003" iyy="0.000004336" iyz="-0.000000097" izz="0.000019845" />
</inertial>
</link>

<joint name="12" type="revolute">
<origin xyz="-0.069395249652862533996 -0.0012422438651005258004 -0.021622403578460215601" rpy="-8.2381766464939424156e-17 1.5707963267948956698 0" />
<parent link="palm_lower" />
<child link="pip_4" />
<axis xyz="0 0 -1"/>
<limit effort="0.95" velocity="8.48" lower = "-0.349" upper = "2.094"/> 
<joint_properties friction="0.0"/>
</joint>

<joint name="13" type="revolute">
<origin xyz="-2.7755575615628913511e-17 0.014300000000000005415 -0.013000000000000011546" rpy="1.5707963267948958919 -1.570796326794896336 0" />
<parent link="pip_4" />
<child link="thumb_pip" />
<axis xyz="0 0 -1"/>
<limit effort="0.95" velocity="8.48" lower = "-0.47" upper = "2.443"/> 
<joint_properties friction="0.0"/>
</joint>

<joint name="14" type="revolute">
<origin xyz="0 0.014499999999999966041 -0.017000000000000053263" rpy="-1.570796326794896558 1.6050198443300131245e-46 -1.9721522630516624601e-31" />
<parent link="thumb_pip" />
<child link="thumb_dip" />
<axis xyz="0 0 -1"/>
<limit effort="0.95" velocity="8.48" lower = "-1.20" upper = "1.90"/> 
<joint_properties friction="0.0"/>
</joint>

<joint name="15" type="revolute">
<origin xyz="-1.249000902703301108e-16 0.046599999999999863753 0.00019999999999997710581" rpy="1.5063958491491781023e-44 5.4234187233935260503e-31 3.141592653589793116" />
<parent link="thumb_dip" />
<child link="thumb_fingertip" />
<axis xyz="0 0 -1"/>
<limit effort="0.95" velocity="8.48" lower = "-1.34" upper = "1.88"/> 
<joint_properties friction="0.0"/>
</joint>


<link name="thumb_ball0">
<visual>
<geometry>
<sphere radius="0.0134"/>
</geometry>
<material name="blue">
<color rgba="0.0 0.0 1.0 1.0"/>
</material>
</visual>
<collision>
<geometry>
<sphere radius="0.0134"/>
</geometry>
</collision>
<inertial>
<origin xyz="0 0 0" rpy="0 0 0"/>
<mass value="0.016" />
<inertia ixx="0.0" ixy="0.0"  ixz="0" iyy="0.0" iyz="0.0" izz="0.0" />
</inertial>
</link>

<joint name="thumb_ball0_joint" type="fixed">
<parent link="thumb_fingertip"/>
<child link="thumb_ball0"/>
<origin rpy="0 0 0" xyz="-0.0015 -0.051 -0.0143"/>
</joint>

<!-- thumb ball1 -->
<link name="thumb_ball1">
<visual>
<geometry>
<sphere radius="0.0134"/>
</geometry>
<material name="blue">
<color rgba="0.0 0.0 1.0 1.0"/>
</material>
</visual>
<collision>
<geometry>
<sphere radius="0.0134"/>
</geometry>
</collision>
<inertial>
<origin xyz="0 0 0" rpy="0 0 0"/>
<mass value="0.016" />
<inertia ixx="0.0" ixy="0.0"  ixz="0" iyy="0.0" iyz="0.0" izz="0.0" />
</inertial>
</link>
<joint name="thumb_ball1_joint" type="fixed">
<parent link="thumb_fingertip"/>
<child link="thumb_ball1"/>
<origin rpy="0 0 0" xyz="-0.0015 -0.031 -0.0143"/>
</joint>

<!-- thumb ball2 -->
<link name="thumb_ball2">
<visual>
<geometry>
<sphere radius="0.0134"/>
</geometry>
<material name="blue">
<color rgba="0.0 0.0 1.0 1.0"/>
</material>
</visual>
<collision>
<geometry>
<sphere radius="0.0134"/>
</geometry>
</collision>
<inertial>
<origin xyz="0 0 0" rpy="0 0 0"/>
<mass value="0.016" />
<inertia ixx="0.0" ixy="0.0"  ixz="0" iyy="0.0" iyz="0.0" izz="0.0" />
</inertial>
</link>
<joint name="thumb_ball2_joint" type="fixed">
<parent link="thumb_fingertip"/>
<child link="thumb_ball2"/>
<origin rpy="0 0 0" xyz="-0.0015 -0.011 -0.0143"/>
</joint>

<!-- thumb ball3 -->
<link name="thumb_ball3">
<visual>
<geometry>
<sphere radius="0.0134"/>
</geometry>
<material name="blue">
<color rgba="0.0 0.0 1.0 1.0"/>
</material>
</visual>
<collision>
<geometry>
<sphere radius="0.0134"/>
</geometry>
</collision>
<inertial>
<origin xyz="0 0 0" rpy="0 0 0"/>
<mass value="0.016" />
<inertia ixx="0.0" ixy="0.0"  ixz="0" iyy="0.0" iyz="0.0" izz="0.0" />
</inertial>
</link>
<joint name="thumb_ball3_joint" type="fixed">
<parent link="thumb_fingertip"/>
<child link="thumb_ball3"/>
<origin rpy="0 0 0" xyz="-0.0015 0.009 -0.0143"/>
</joint>

<!-- thumb ball4 -->
<link name="thumb_ball4">
<visual>
<geometry>
<sphere radius="0.0134"/>
</geometry>
<material name="blue">
<color rgba="0.0 0.0 1.0 1.0"/>
</material>
</visual>
<collision>
<geometry>
<sphere radius="0.0134"/>
</geometry>
</collision>
<inertial>
<origin xyz="0 0 0" rpy="0 0 0"/>
<mass value="0.016" />
<inertia ixx="0.0" ixy="0.0"  ixz="0" iyy="0.0" iyz="0.0" izz="0.0" />
</inertial>
</link>
<joint name="thumb_ball4_joint" type="fixed">
<parent link="thumb_dip"/>
<child link="thumb_ball4"/>
<origin rpy="0 0 0" xyz="0.0 0.016 -0.014"/>
</joint>

<!-- thumb ball5 -->
<link name="thumb_ball5">
<visual>
<geometry>
<sphere radius="0.0134"/>
</geometry>
<material name="blue">
<color rgba="0.0 0.0 1.0 1.0"/>
</material>
</visual>
<collision>
<geometry>
<sphere radius="0.0134"/>
</geometry>
</collision>
<inertial>
<origin xyz="0 0 0" rpy="0 0 0"/>
<mass value="0.016" />
<inertia ixx="0.0" ixy="0.0"  ixz="0" iyy="0.0" iyz="0.0" izz="0.0" />
</inertial>
</link>
<joint name="thumb_ball5_joint" type="fixed">
<parent link="thumb_dip"/>
<child link="thumb_ball5"/>
<origin rpy="0 0 0" xyz="0.0 -0.004 -0.014"/>
</joint>

<!-- thumb ball6 -->
<link name="thumb_ball6">
<visual>
<geometry>
<sphere radius="0.0134"/>
</geometry>
<material name="blue">
<color rgba="0.0 0.0 1.0 1.0"/>
</material>
</visual>
<collision>
<geometry>
<sphere radius="0.0134"/>
</geometry>
</collision>
<inertial>
<origin xyz="0 0 0" rpy="0 0 0"/>
<mass value="0.016" />
<inertia ixx="0.0" ixy="0.0"  ixz="0" iyy="0.0" iyz="0.0" izz="0.0" />
</inertial>
</link>
<joint name="thumb_ball6_joint" type="fixed">
<parent link="pip_4"/>
<child link="thumb_ball6"/>
<origin rpy="0 0 0" xyz="0.0 0.01 -0.012 "/>
</joint>

<!-- thumb ball7 -->
<link name="thumb_ball7">
<visual>
<geometry>
<sphere radius="0.0134"/>
</geometry>
<material name="blue">
<color rgba="0.0 0.0 1.0 1.0"/>
</material>
</visual>
<collision>
<geometry>
<sphere radius="0.0134"/>
</geometry>
</collision>
<inertial>
<origin xyz="0 0 0" rpy="0 0 0"/>
<mass value="0.016" />
<inertia ixx="0.0" ixy="0.0"  ixz="0" iyy="0.0" iyz="0.0" izz="0.0" />
</inertial>
</link>
<joint name="thumb_ball7_joint" type="fixed">
<parent link="pip_4"/>
<child link="thumb_ball7"/>
<origin rpy="0 0 0" xyz="0.0 -0.01 -0.012 "/>
</joint>

<!-- palm ball1 -->
<link name="palm_ball1">
<visual>
<geometry>
<sphere radius="0.025"/>
</geometry>
<material name="purple">
<color rgba="1.0 0.0 1.0 1.0"/>
</material>
</visual>
<collision>
<geometry>
<sphere radius="0.025"/>
</geometry>
</collision>
<inertial>
<origin xyz="0 0 0" rpy="0 0 0"/>
<mass value="0.016" />
<inertia ixx="0.0" ixy="0.0"  ixz="0" iyy="0.0" iyz="0.0" izz="0.0" />
</inertial>
</link>
<joint name="palm_ball1_joint" type="fixed">
<parent link="palm_lower"/>
<child link="palm_ball1"/>
<origin rpy="0 0 0" xyz="-0.045 0.005 -0.012 "/>
</joint>

<!-- palm ball2 -->
<link name="palm_ball2">
<visual>
<geometry>
<sphere radius="0.025"/>
</geometry>
<material name="purple">
<color rgba="1.0 0.0 1.0 1.0"/>
</material>
</visual>
<collision>
<geometry>
<sphere radius="0.025"/>
</geometry>
</collision>
<inertial>
<origin xyz="0 0 0" rpy="0 0 0"/>
<mass value="0.016" />
<inertia ixx="0.0" ixy="0.0"  ixz="0" iyy="0.0" iyz="0.0" izz="0.0" />
</inertial>
</link>
<joint name="palm_ball2_joint" type="fixed">
<parent link="palm_lower"/>
<child link="palm_ball2"/>
<origin rpy="0 0 0" xyz="-0.045 -0.035 -0.012 "/>
</joint>

<!-- palm ball3 -->
<link name="palm_ball3">
<visual>
<geometry>
<sphere radius="0.025"/>
</geometry>
<material name="purple">
<color rgba="1.0 0.0 1.0 1.0"/>
</material>
</visual>
<collision>
<geometry>
<sphere radius="0.025"/>
</geometry>
</collision>
<inertial>
<origin xyz="0 0 0" rpy="0 0 0"/>
<mass value="0.016" />
<inertia ixx="0.0" ixy="0.0"  ixz="0" iyy="0.0" iyz="0.0" izz="0.0" />
</inertial>
</link>
<joint name="palm_ball3_joint" type="fixed">
<parent link="palm_lower"/>
<child link="palm_ball3"/>
<origin rpy="0 0 0" xyz="-0.045 -0.075 -0.012 "/>
</joint>

<!-- palm ball4 -->
<link name="palm_ball4">
<visual>
<geometry>
<sphere radius="0.025"/>
</geometry>
<material name="purple">
<color rgba="1.0 0.0 1.0 1.0"/>
</material>
</visual>
<collision>
<geometry>
<sphere radius="0.025"/>
</geometry>
</collision>
<inertial>
<origin xyz="0 0 0" rpy="0 0 0"/>
<mass value="0.016" />
<inertia ixx="0.0" ixy="0.0"  ixz="0" iyy="0.0" iyz="0.0" izz="0.0" />
</inertial>
</link>
<joint name="palm_ball4_joint" type="fixed">
<parent link="palm_lower"/>
<child link="palm_ball4"/>
<origin rpy="0 0 0" xyz="-0.075 -0.065 -0.012 "/>
</joint>

<!-- palm ball5 -->
<link name="palm_ball5">
<visual>
<geometry>
<sphere radius="0.025"/>
</geometry>
<material name="purple">
<color rgba="1.0 0.0 1.0 1.0"/>
</material>
</visual>
<collision>
<geometry>
<sphere radius="0.025"/>
</geometry>
</collision>
<inertial>
<origin xyz="0 0 0" rpy="0 0 0"/>
<mass value="0.016" />
<inertia ixx="0.0" ixy="0.0"  ixz="0" iyy="0.0" iyz="0.0" izz="0.0" />
</inertial>
</link>
<joint name="palm_ball5_joint" type="fixed">
<parent link="palm_lower"/>
<child link="palm_ball5"/>
<origin rpy="0 0 0" xyz="-0.075 -0.035 -0.012 "/>
</joint>

</robot>
